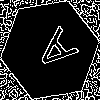A: (25, 25, 80, 80)
